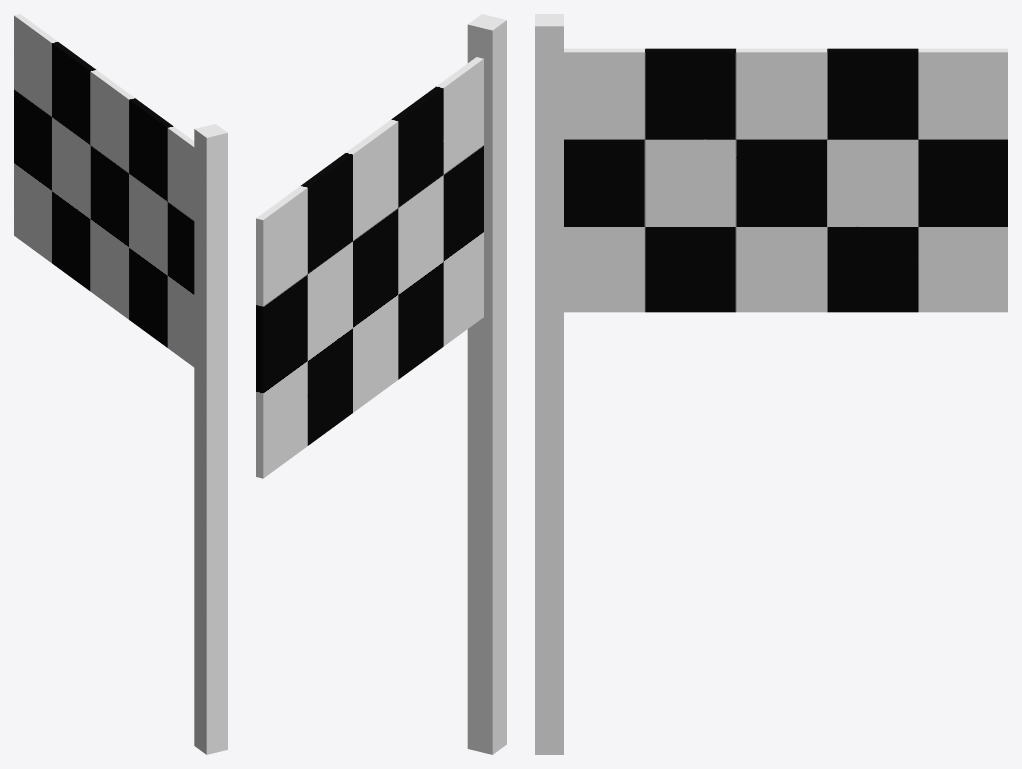
Rendered from Flag (2).fbx.
3 views of the same model, side by side, from view 1: azimuth 30°, elevation 25°; view 2: azimuth 150°, elevation 25°; view 3: azimuth 270°, elevation 25° (orthographic). The views are drawn at different scales.
Visible parts, largest first — view 1: Plane, Cube; view 2: Plane, Cube; view 3: Plane, Cube.
Part boxes in pixels (bbox=[...]): Plane: bbox=[14, 14, 194, 367]; Cube: bbox=[194, 124, 227, 754]; Plane: bbox=[256, 57, 483, 478]; Cube: bbox=[467, 14, 506, 754]; Plane: bbox=[564, 48, 1007, 312]; Cube: bbox=[535, 14, 563, 754].
Size of the model in its own units: 20.14 by 560 by 329.
